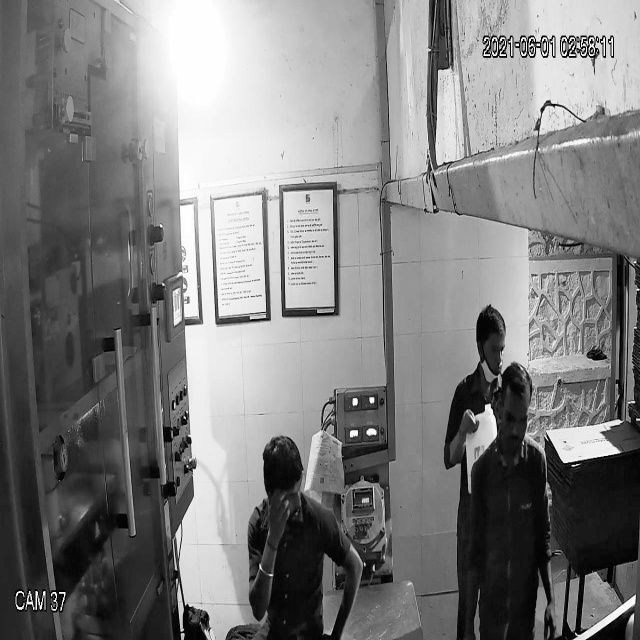Sin_gafas: (495, 399, 536, 437)
